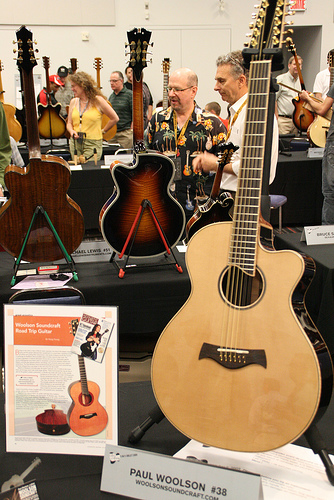guitar: (148, 1, 333, 452)
